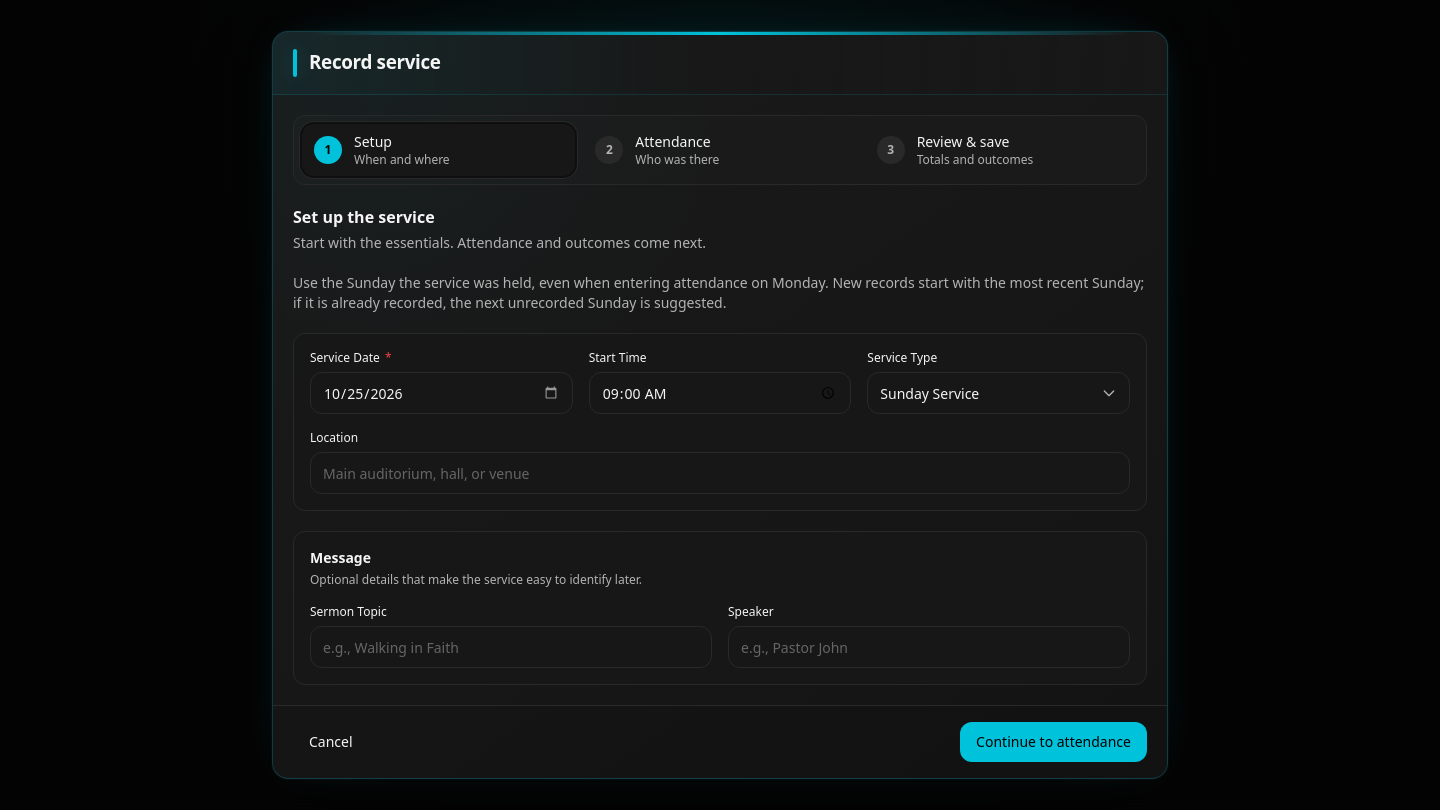
reports a confirmation failure and leaves an unselected directory for manual recording
Click the button "2 Attendance Who was there".
click(720, 150)  # box [583,124,857,176]
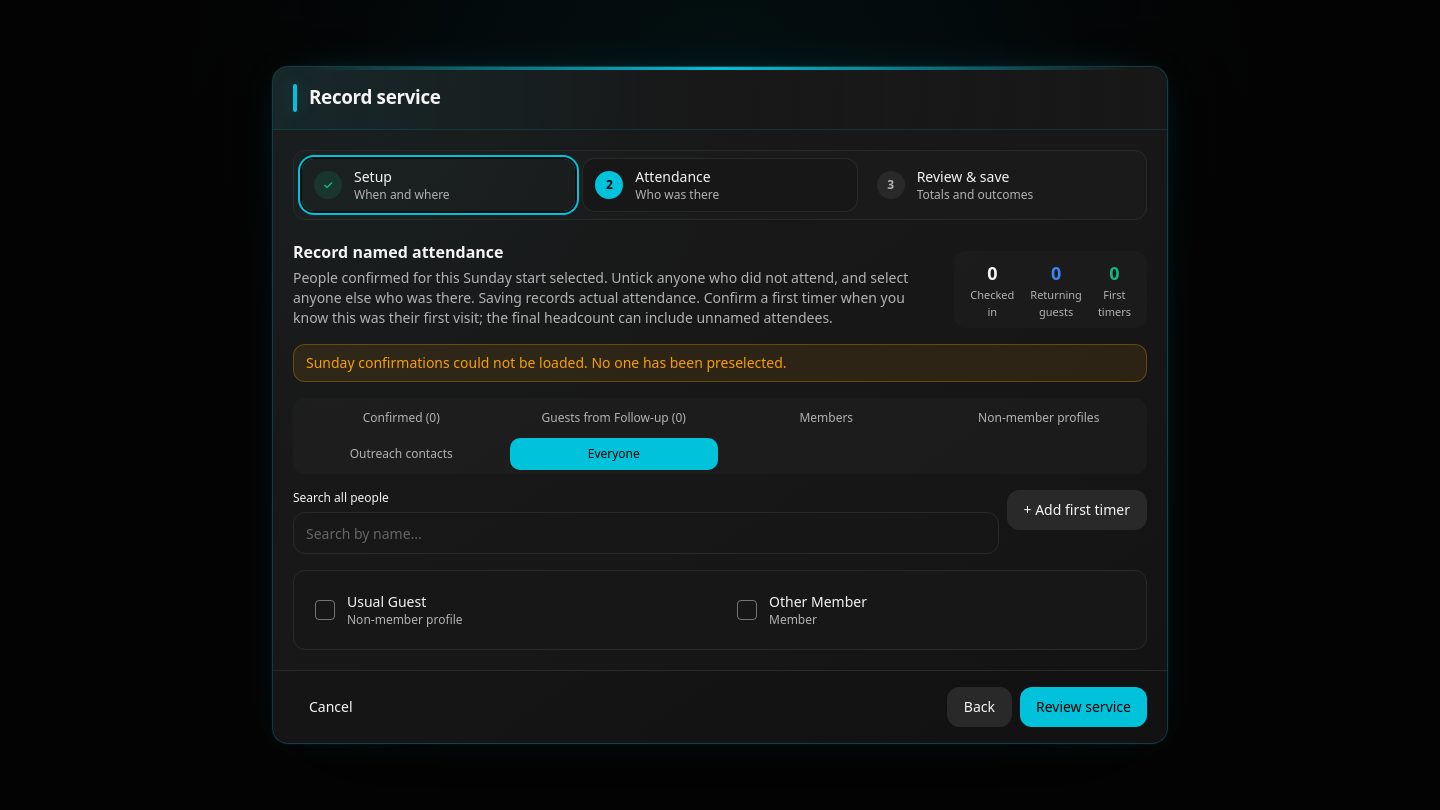
Expected: the text "Sunday confirmations could not be loaded. No one has been preselected." is shown, [293,344,1147,382]
